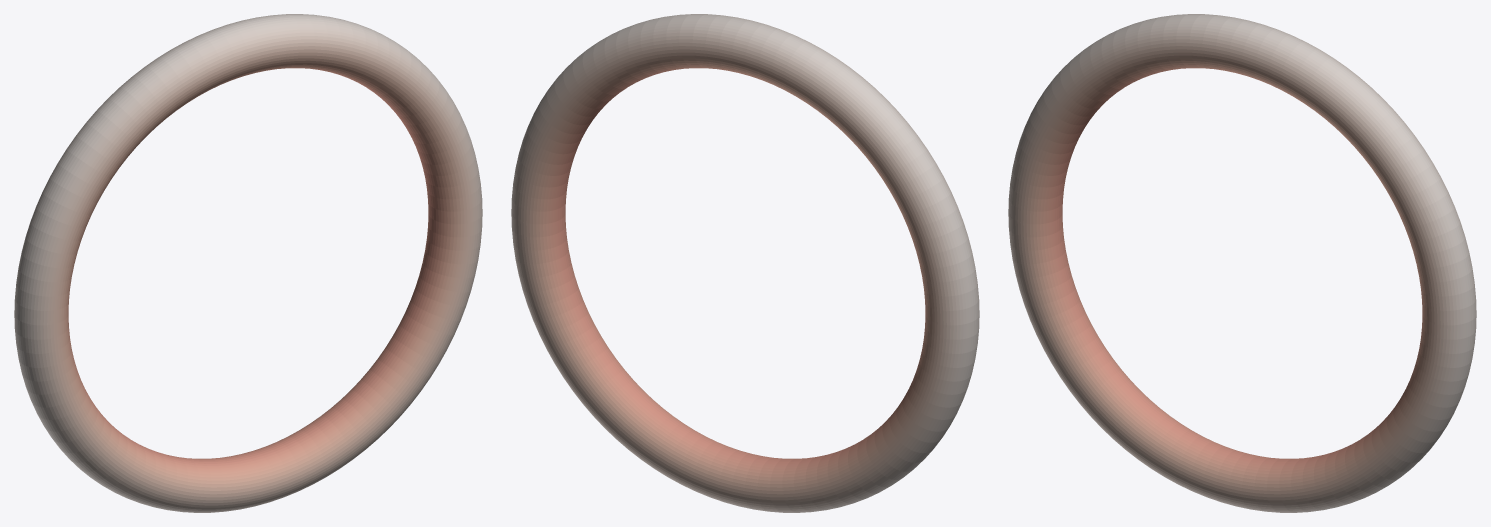
The picture shows the model from 3 angles, left to right: view 1: azimuth 30°, elevation 25°; view 2: azimuth 150°, elevation 25°; view 3: azimuth 330°, elevation 25°; orthographic projection.
Parts seen in each view (by area): view 1: world; view 2: world; view 3: world.
Boxes of the visible parts, x1=… form: world: x1=14, y1=14, x2=482, y2=512; world: x1=511, y1=14, x2=979, y2=512; world: x1=1008, y1=14, x2=1476, y2=512.
Bounding box in the file's own units: 22.27 × 22.27 × 2.26.
